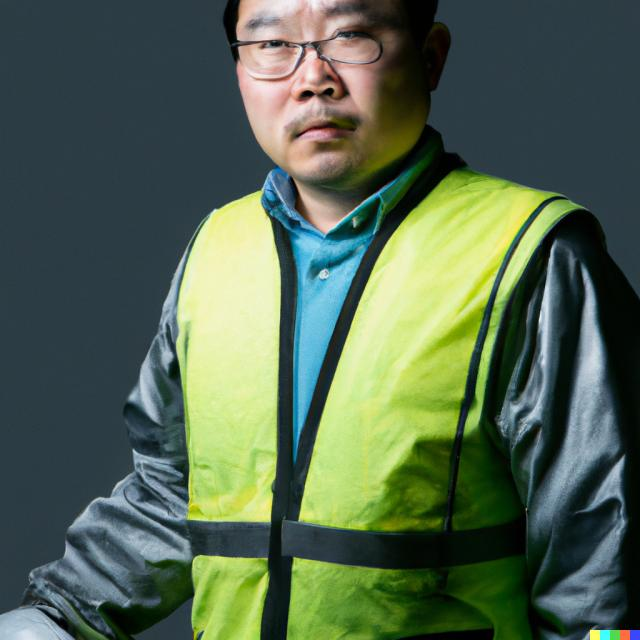Reflective-Jacket: (156, 149, 601, 640)
